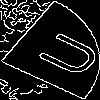U: (25, 24, 100, 81)
